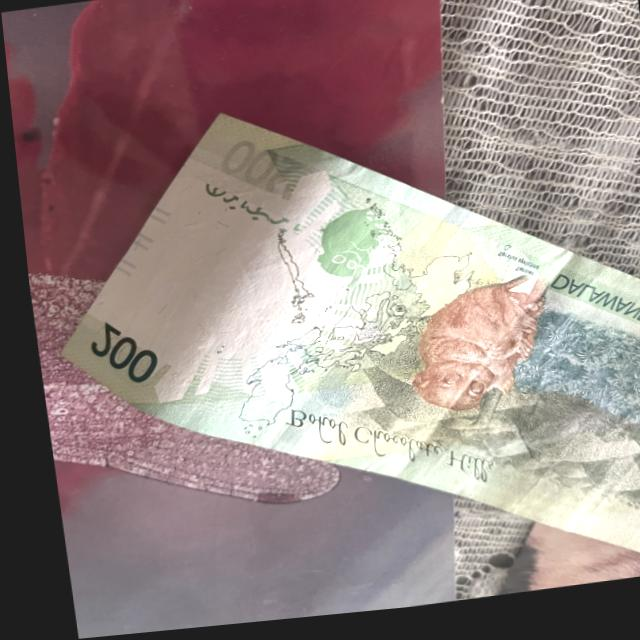200_tarsier: (369, 274, 571, 430)
200_tarsier_watermark: (294, 188, 423, 304)
